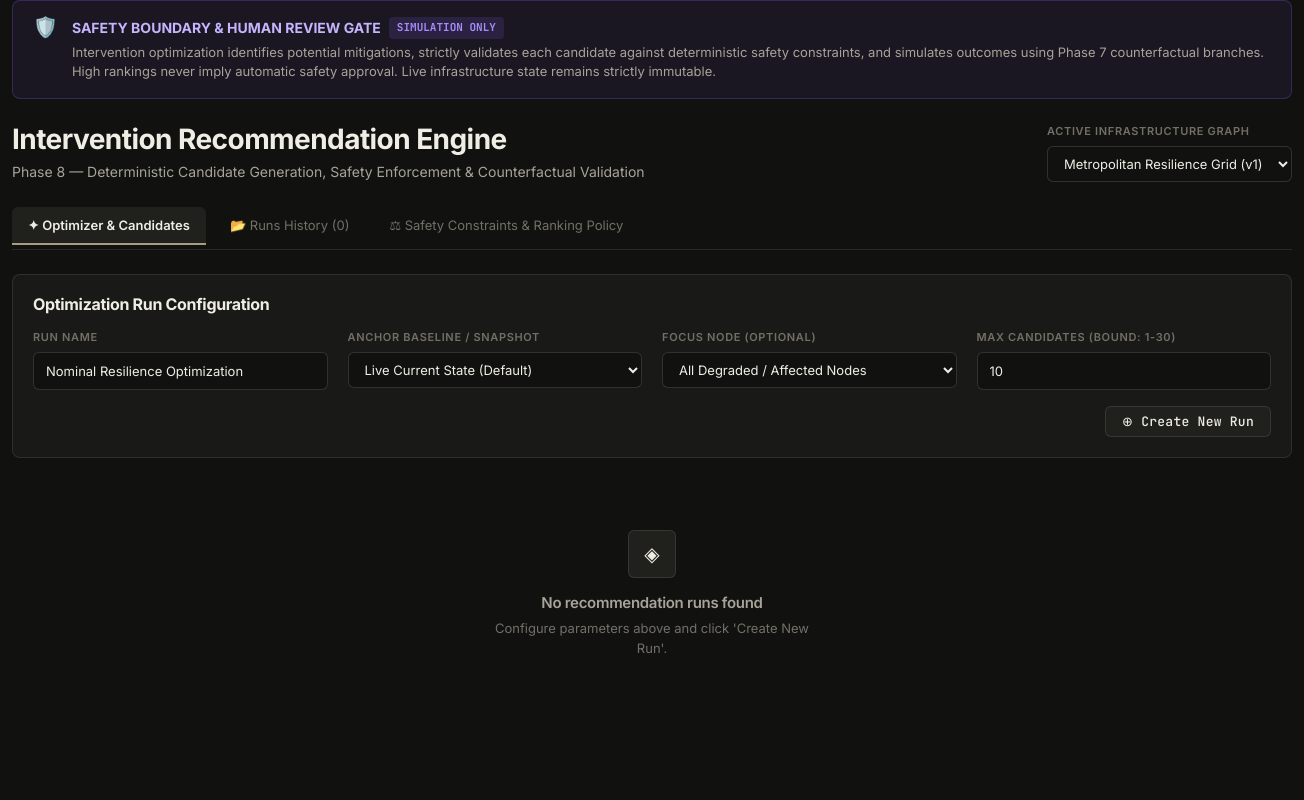
Scenario: Recommendations Page (/app/recommendations) › renders policy tab with formal safety constraints and formula
Click the button "⚖ Safety Constraints & Ranking Policy" at (506, 226), box [373,207,639,245]
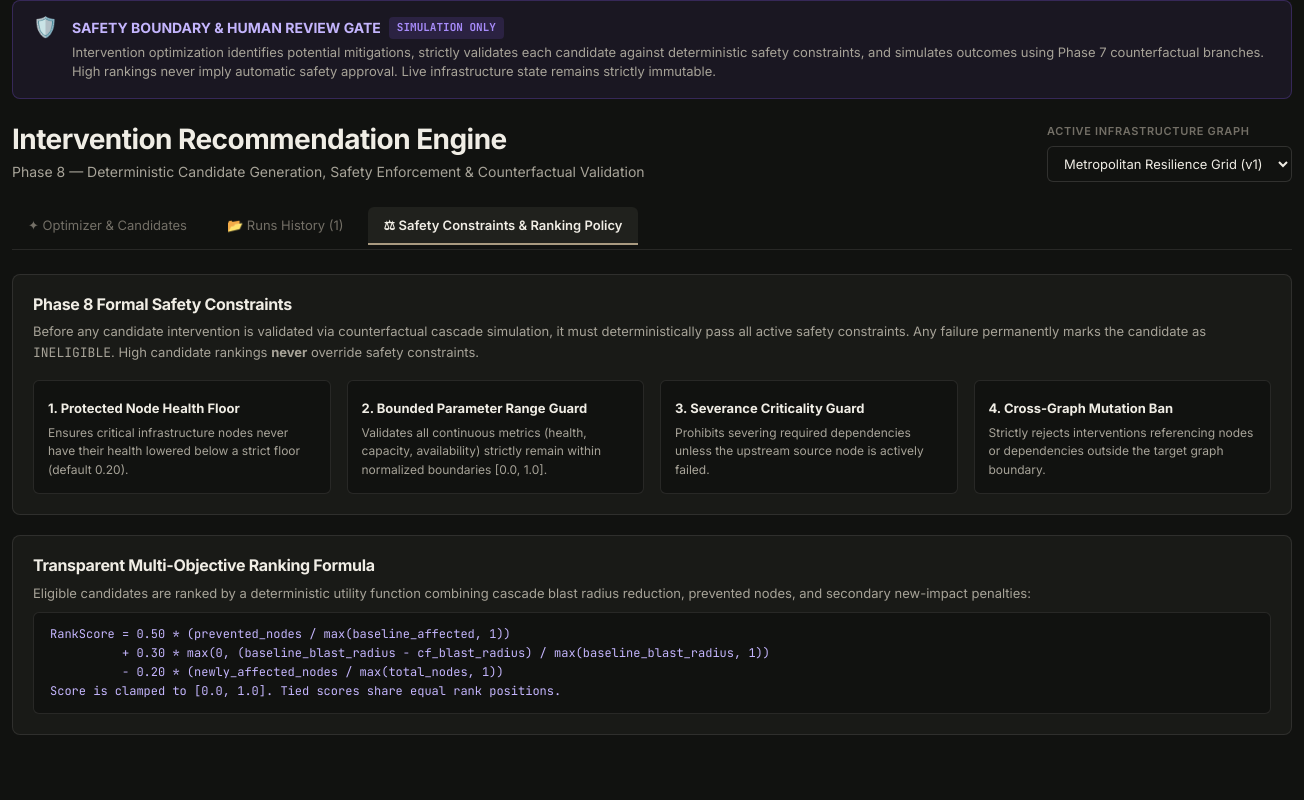
Result: the heading "Phase 8 Formal Safety Constraints" is shown at [33,294,292,314]
Result: the text "1. Protected Node Health Floor" is shown at [48,400,240,416]
Result: the text "2. Bounded Parameter Range Guard" is shown at [362,400,587,416]
